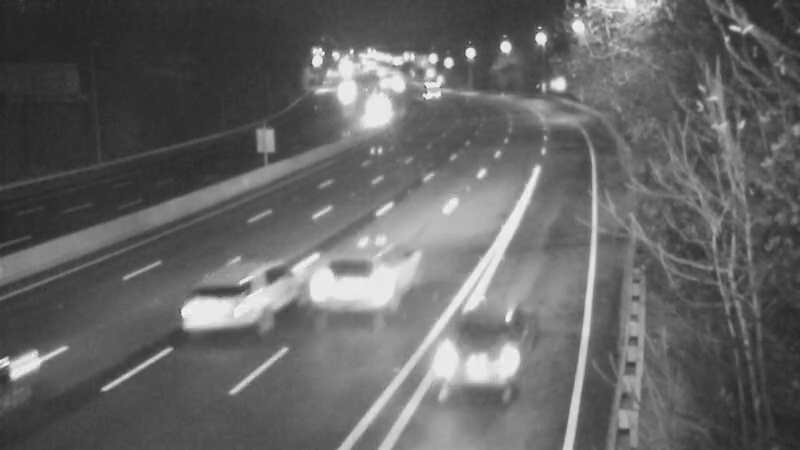vehicle: (426, 302, 536, 412), (172, 251, 282, 361), (313, 250, 393, 330), (406, 69, 456, 119), (351, 88, 401, 138), (320, 64, 370, 114)
